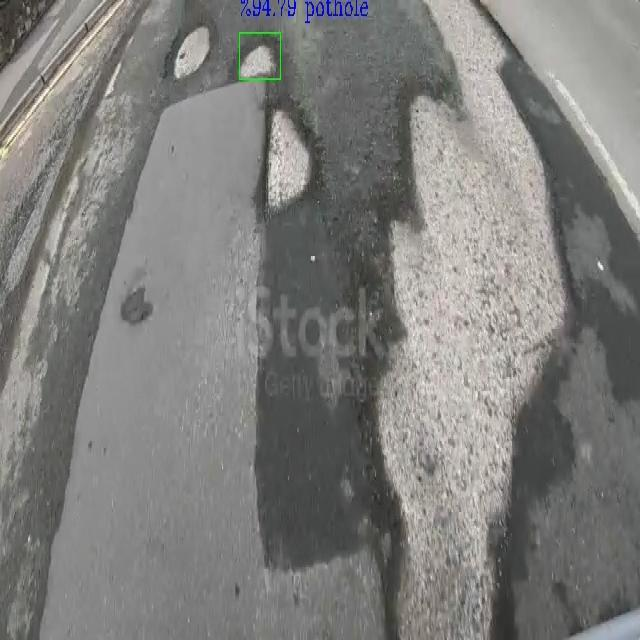pothole: (264, 79, 322, 216), (160, 0, 220, 84), (241, 36, 279, 77), (119, 285, 154, 328)
